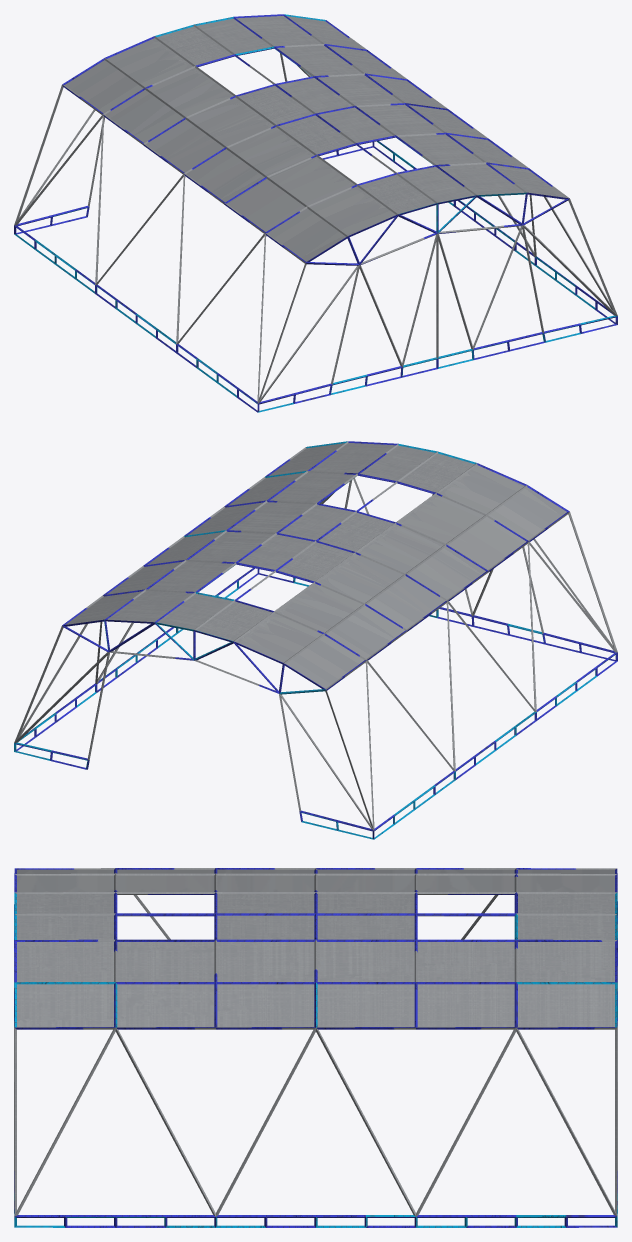
The model's file is TentCanopy.fbx.
The picture shows the model from 3 angles, top to bottom: view 1: azimuth 30°, elevation 25°; view 2: azimuth 150°, elevation 25°; view 3: azimuth 270°, elevation 25°; orthographic projection. The views are drawn at different scales.
Visible parts, largest first — view 1: TentCanopy; view 2: TentCanopy; view 3: TentCanopy.
Boxes of the visible parts, x1,y1,x2,y2 form: TentCanopy: (14,14,617,412); TentCanopy: (14,441,617,839); TentCanopy: (14,868,617,1227).
Bounding box in the file's own units: 412 × 181 × 483.
1 material, 1 textured.
